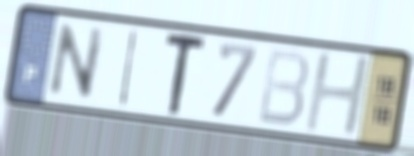7: (211, 38, 261, 123)
B: (255, 45, 312, 130)
H: (301, 51, 374, 139)
I: (115, 26, 141, 111)
N: (44, 19, 109, 102)
T: (162, 32, 211, 118)
